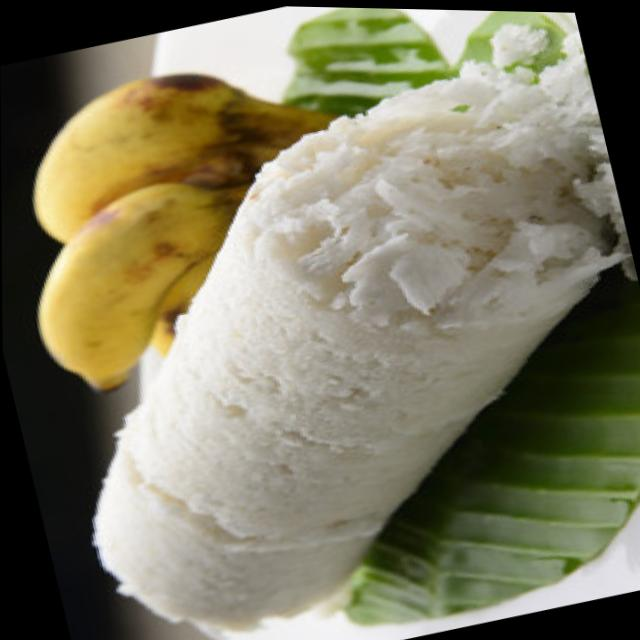BANANA: (27, 72, 327, 391)
PUTTU: (89, 29, 635, 640)
